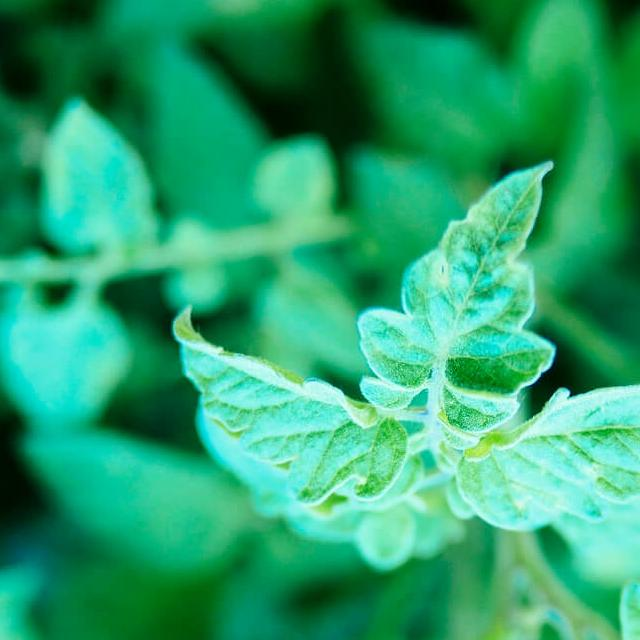Tomato leaf: (150, 309, 442, 543), (382, 132, 580, 460), (440, 366, 640, 533)
